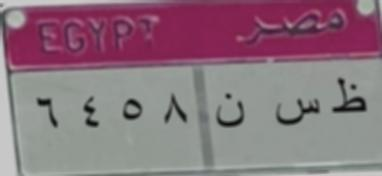4: (82, 92, 102, 133)
5: (117, 90, 148, 128)
6: (31, 93, 64, 135)
8: (158, 84, 190, 130)
Thaa: (328, 73, 370, 122)
noon: (212, 89, 248, 134)
seen: (268, 90, 324, 130)
